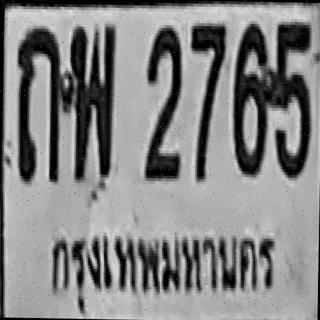A22: (14, 25, 64, 182)
A30: (66, 22, 115, 182)
N02: (143, 24, 182, 177)
N05: (271, 19, 311, 178)
N06: (232, 22, 273, 176)
N07: (188, 21, 226, 180), (189, 21, 226, 164), (190, 20, 227, 126)
P04: (40, 215, 278, 318)
